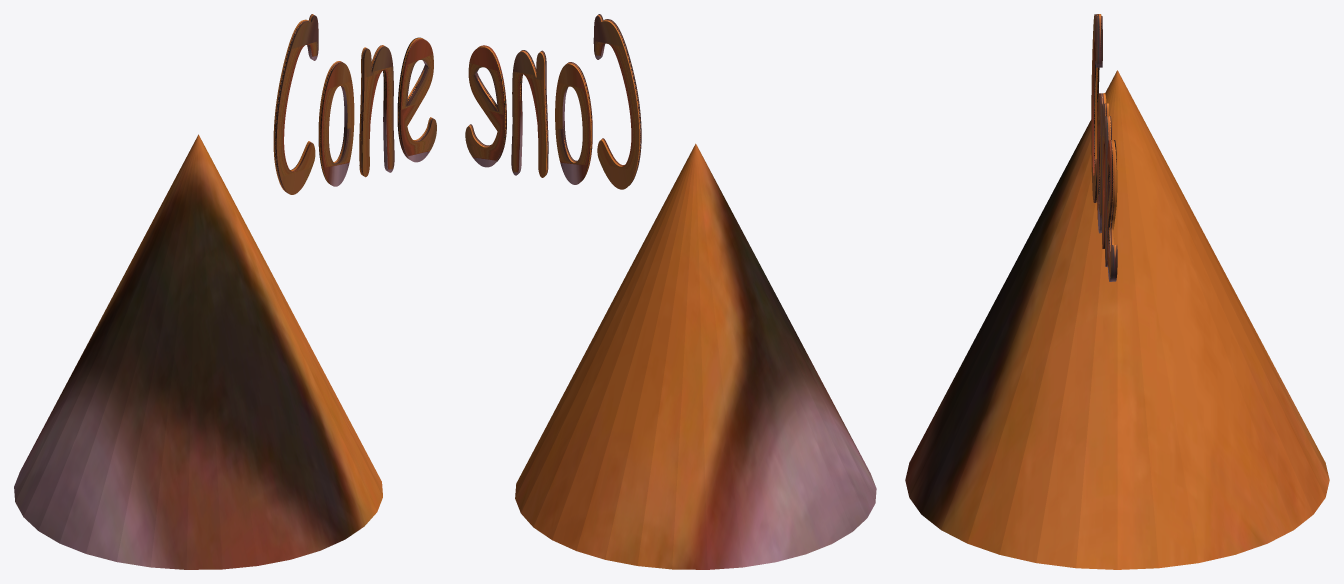
File: conewithtexures.gltf
3 renders of one model, left to right at view 1: azimuth 30°, elevation 25°; view 2: azimuth 150°, elevation 25°; view 3: azimuth 270°, elevation 25°, orthographic. The views are drawn at different scales.
Parts seen in each view (by area): view 1: Cone, Text; view 2: Cone, Text; view 3: Cone, Text.
Part boxes in pixels (x1=…): Cone: x1=14, y1=134, x2=382, y2=569; Text: x1=273, y1=14, x2=436, y2=194; Cone: x1=515, y1=143, x2=876, y2=569; Text: x1=465, y1=14, x2=641, y2=189; Cone: x1=905, y1=70, x2=1329, y2=569; Text: x1=1091, y1=14, x2=1117, y2=281.
Size of the model in its own units: 185 by 204 by 150.
1 material, 1 textured.
